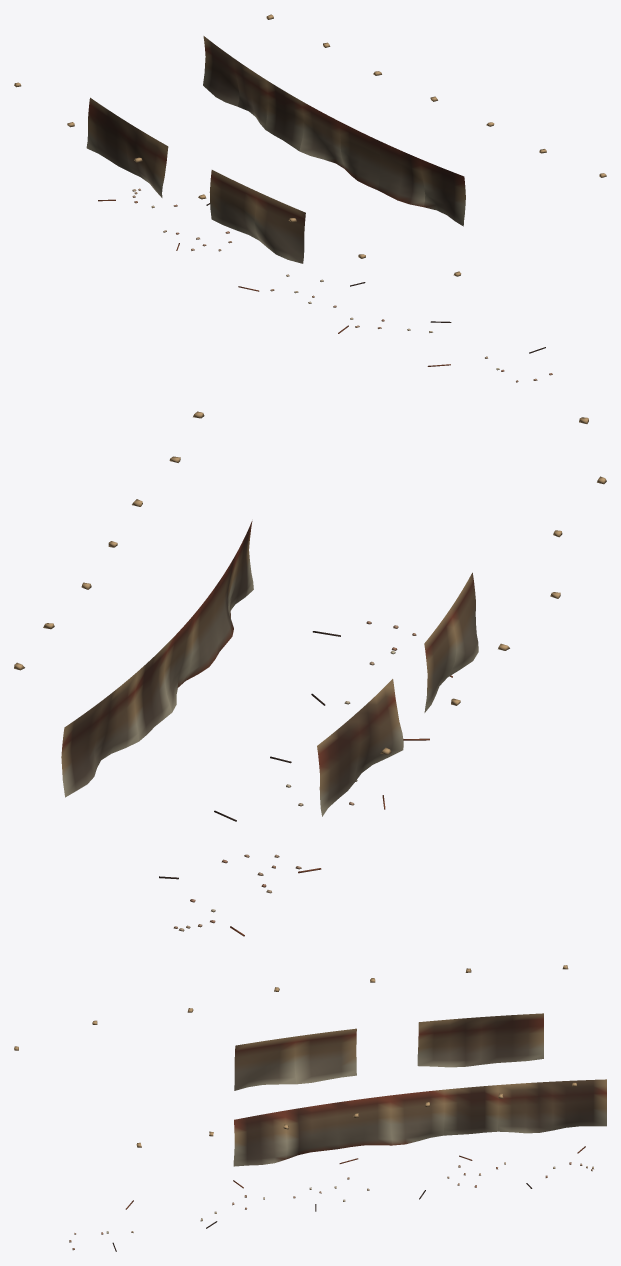
Rendered from slot_canyon_flow_bend30_detail2.glb.
3 renders of one model, top to bottom at view 1: azimuth 30°, elevation 25°; view 2: azimuth 150°, elevation 25°; view 3: azimuth 270°, elevation 25°, orthographic. The views are drawn at different scales.
Visible parts, largest first — view 1: slot_canyon_flow_bend30_detail2; view 2: slot_canyon_flow_bend30_detail2; view 3: slot_canyon_flow_bend30_detail2.
Boxes of the visible parts, <box> form: slot_canyon_flow_bend30_detail2: <box>14,14,606,382</box>; slot_canyon_flow_bend30_detail2: <box>14,411,606,936</box>; slot_canyon_flow_bend30_detail2: <box>14,965,606,1251</box>.
Bounding box in the file's own units: 32.53 × 14.39 × 48.46.
